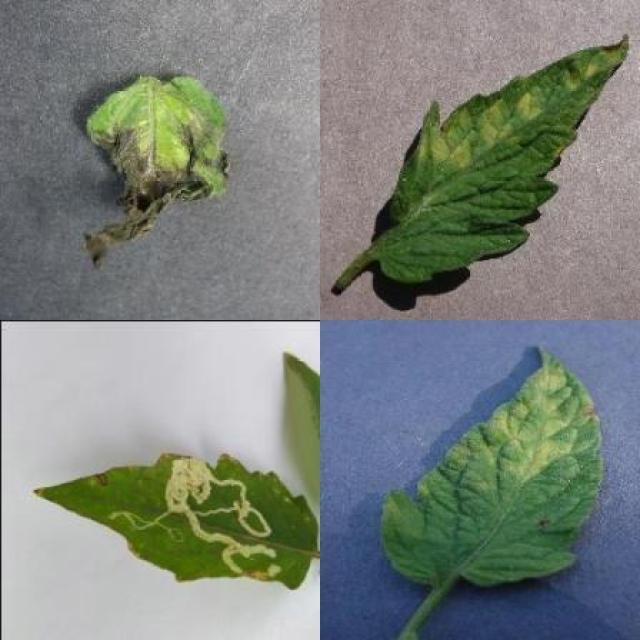Late Blight: (84, 74, 234, 274)
Leaf Miner: (29, 450, 320, 591)
Leaf Mold: (376, 32, 630, 285), (381, 342, 605, 588)
